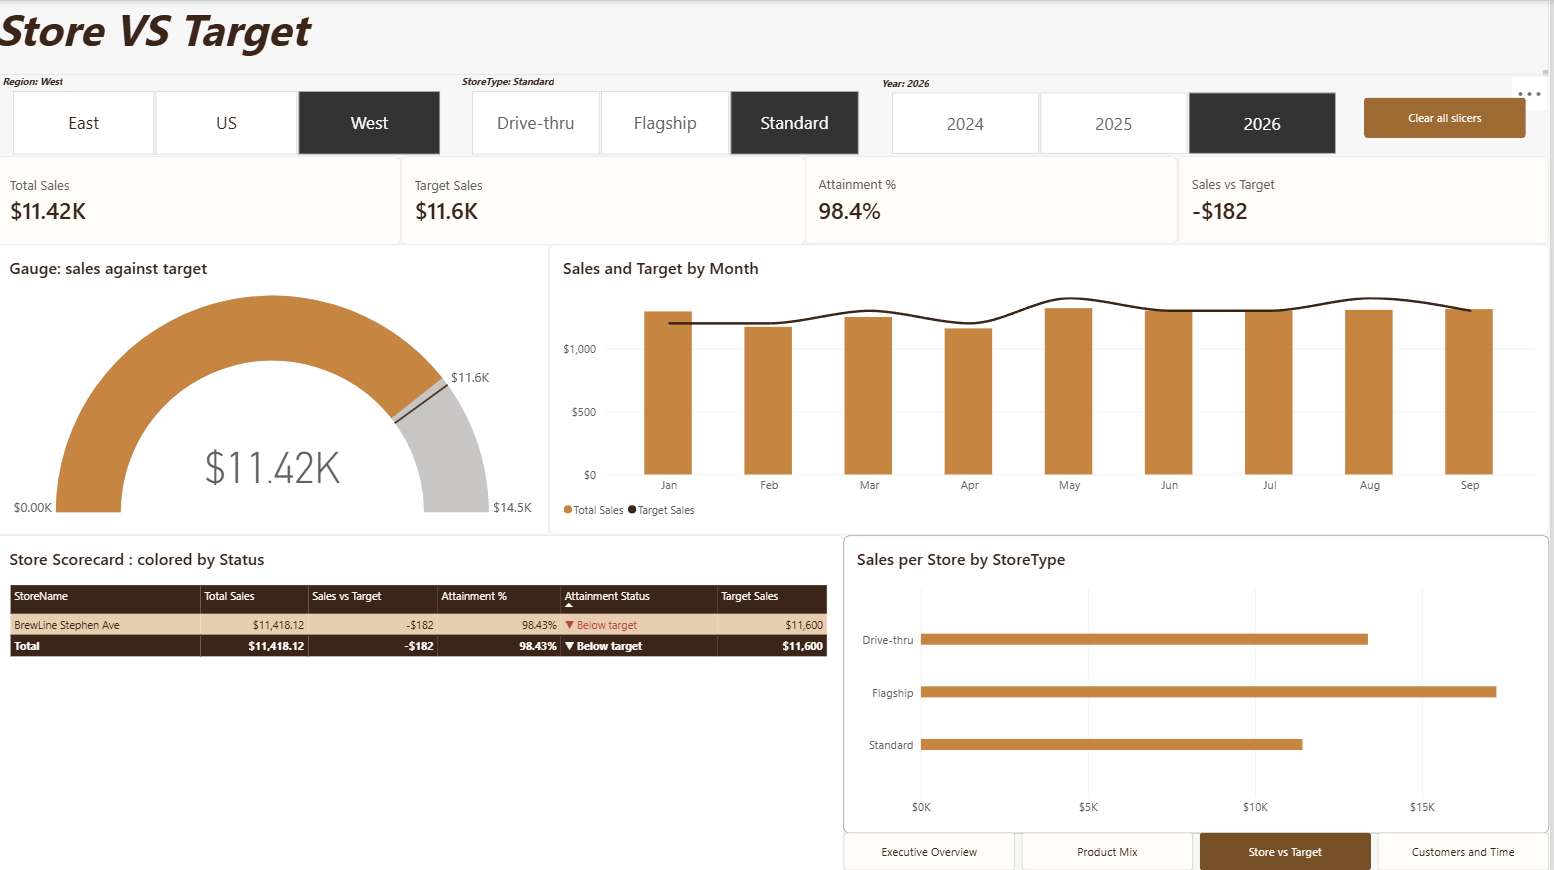

The dashboard page shown, as its layout file describes it:
{"tool":"powerbi","page":{"name":"Store vs Target","canvas":[1920,1080],"ordinal":2},"visuals":[{"type":"slicer","fields":{"Values":["DimDate.Year"]},"box":[1085.7,95.4,588.3,97.7],"z":0},{"type":"slicer","fields":{"Values":["DimStore.Region"]},"box":[0,93.1,567.8,99.9],"z":1000},{"type":"slicer","fields":{"Values":["DimStore.StoreType"]},"box":[567.8,93.1,517.9,99.9],"z":2000},{"type":"cardVisual","fields":{"Data":["_Measures.Total Sales"]},"box":[0,193.1,500,110],"z":3000},{"type":"cardVisual","fields":{"Data":["_Measures.Sales vs Target"]},"box":[1460.5,193.1,458.8,109],"z":4000},{"type":"cardVisual","fields":{"Data":["_Measures.Attainment %"]},"box":[999.4,193.1,461.1,109],"z":5000},{"type":"cardVisual","fields":{"Data":["_Measures.Target Sales"]},"box":[499.7,193.1,500,110],"z":6000},{"type":"gauge","title":"Gauge: sales against target","fields":{"MaxValue":["_Measures.Gauge Max"],"TargetValue":["_Measures.Target Sales"],"Y":["_Measures.Total Sales"]},"box":[0,302.1,683.7,358.9],"z":7000},{"type":"lineClusteredColumnComboChart","title":"Sales and Target by Month","fields":{"Category":["DimDate.Month"],"Y":["_Measures.Total Sales"],"Y2":["_Measures.Target Sales"]},"box":[683.7,302.1,1235.6,358.9],"z":8000},{"type":"tableEx","title":"Store Scorecard : colored by Status","fields":{"Values":["DimStore.StoreName","_Measures.Total Sales","_Measures.Sales vs Target","_Measures.Attainment %","_Measures.Attainment Status","_Measures.Target Sales"]},"box":[0,661,1047.1,417.9],"z":9000},{"type":"clusteredBarChart","fields":{"Category":["DimStore.StoreType"],"Y":["_Measures.Sales per Store"]},"box":[1047.1,661,872.2,368],"z":10000},{"type":"textbox","title":"Store vs Target","box":[0,0,1919.3,93.1],"z":11000},{"type":"pageNavigator","box":[1047.1,1028.9,874.5,47.7],"z":12000},{"type":"actionButton","box":[1689.9,120.4,200,50],"z":13000}]}

Visuals, with their boxes in screenshot pixels (x1, y1, x2, y2), scaled from the page's 1920x1080 canvas onto the 1554x870 screenshot:
slicer - DimDate.Year: bbox(879, 77, 1355, 156)
slicer - DimStore.Region: bbox(0, 75, 460, 155)
slicer - DimStore.StoreType: bbox(460, 75, 879, 155)
cardVisual - _Measures.Total Sales: bbox(0, 156, 405, 244)
cardVisual - _Measures.Sales vs Target: bbox(1182, 156, 1553, 243)
cardVisual - _Measures.Attainment %: bbox(809, 156, 1182, 243)
cardVisual - _Measures.Target Sales: bbox(404, 156, 809, 244)
"Gauge: sales against target" gauge: bbox(0, 243, 553, 532)
"Sales and Target by Month" lineClusteredColumnComboChart: bbox(553, 243, 1553, 532)
"Store Scorecard : colored by Status" tableEx: bbox(0, 532, 847, 869)
clusteredBarChart - DimStore.StoreType x _Measures.Sales per Store: bbox(847, 532, 1553, 829)
"Store vs Target" textbox: bbox(0, 0, 1553, 75)
pageNavigator: bbox(847, 829, 1553, 867)
actionButton: bbox(1368, 97, 1530, 137)
